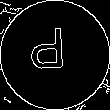P_S: (35, 29, 75, 81)
